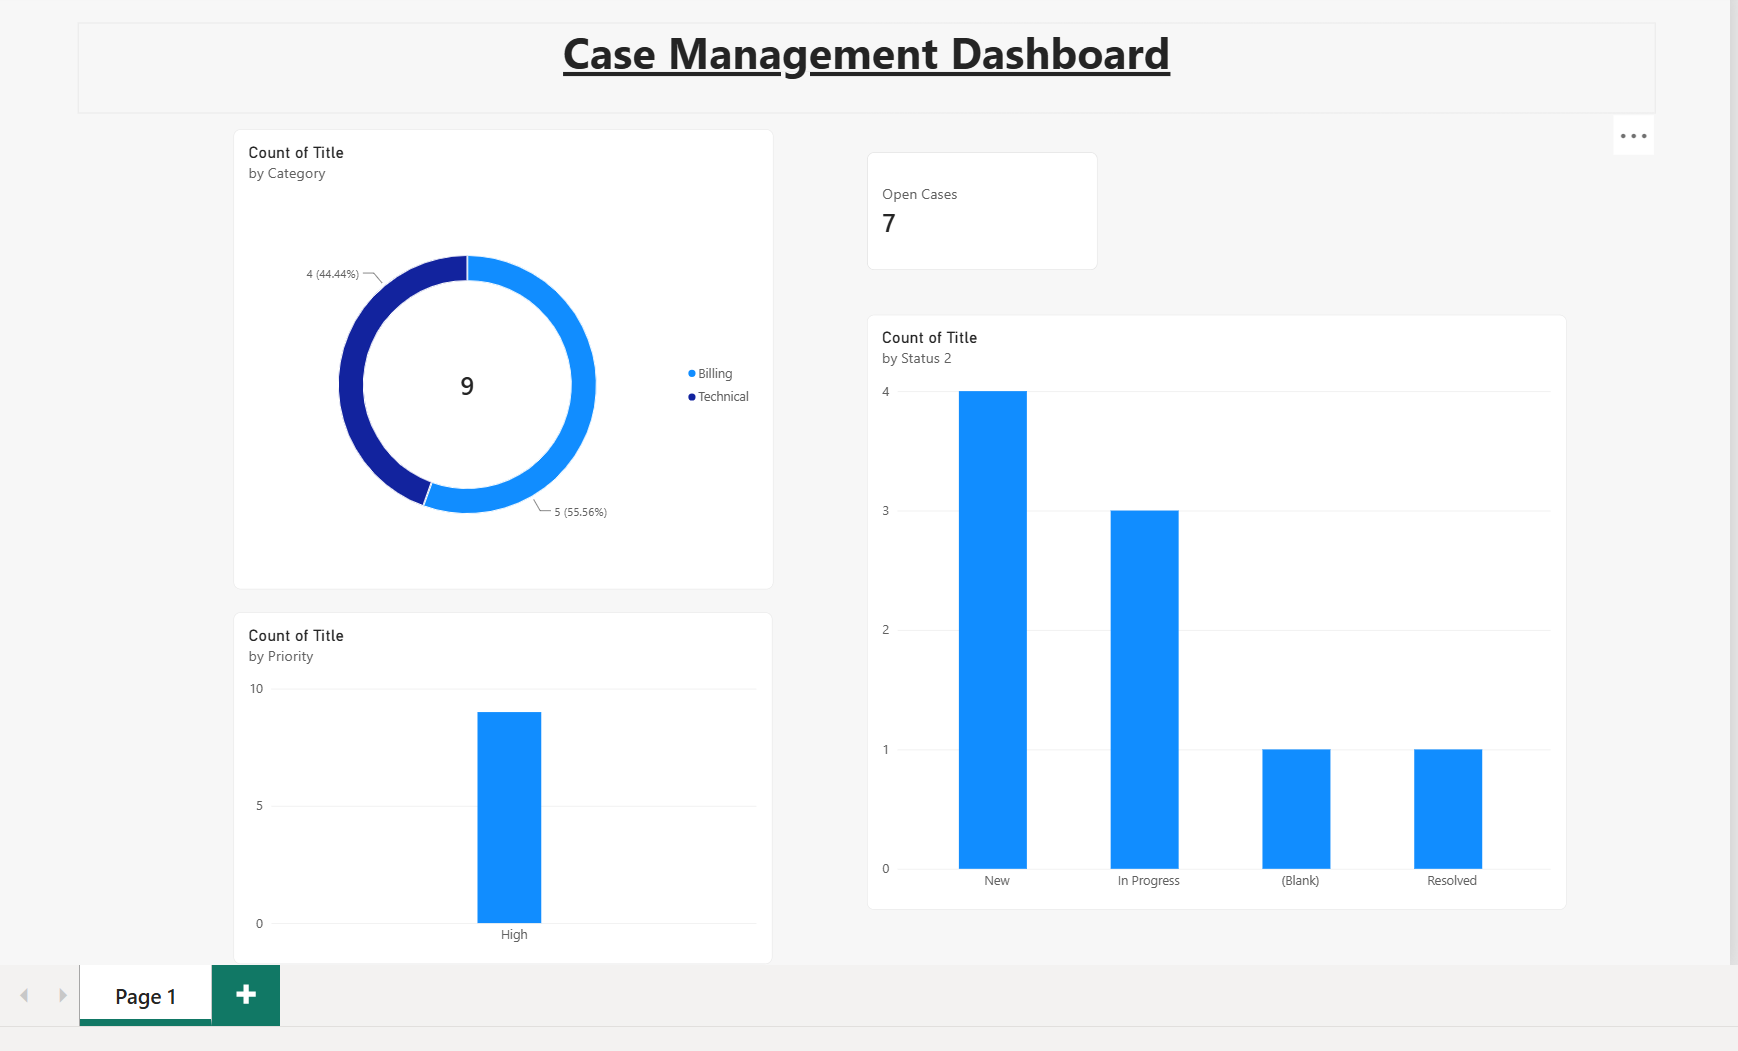

This screenshot's page, from the dashboard's own definition file:
{"tool":"powerbi","page":{"name":"Page 1","canvas":[1920,1080],"ordinal":0},"visuals":[{"type":"donutChart","fields":{"Category":["annsley_case.Category"],"Y":["CountNonNull(annsley_case.Title)"]},"box":[260.9,153.8,598.6,510.1],"z":0},{"type":"clusteredColumnChart","fields":{"Category":["annsley_case.Priority"],"Y":["CountNonNull(annsley_case.Title)"]},"box":[260.9,688.9,597.5,390.2],"z":1},{"type":"clusteredColumnChart","fields":{"Category":["annsley_case.Status 2"],"Y":["CountNonNull(annsley_case.Title)"]},"box":[963.2,359,775.9,660],"z":2},{"type":"cardVisual","title":"Open Cases","fields":{"Data":["CountNonNull(annsley_case.Title)"]},"box":[963.2,178.4,256.4,131.5],"z":3},{"type":"textbox","box":[87,35.7,1750.2,100.3],"z":4}]}

Visuals, with their boxes on the page's 1920x1080 design canvas (x1, y1, x2, y2). These are canvas units, not pixel positions in the 1738x1051 screenshot, which may show the page scaled, cropped or inside an application window:
donutChart - annsley_case.Category x CountNonNull(annsley_case.Title): <box>261,154,860,664</box>
clusteredColumnChart - annsley_case.Priority x CountNonNull(annsley_case.Title): <box>261,689,858,1079</box>
clusteredColumnChart - annsley_case.Status 2 x CountNonNull(annsley_case.Title): <box>963,359,1739,1019</box>
"Open Cases" cardVisual: <box>963,178,1220,310</box>
textbox: <box>87,36,1837,136</box>
